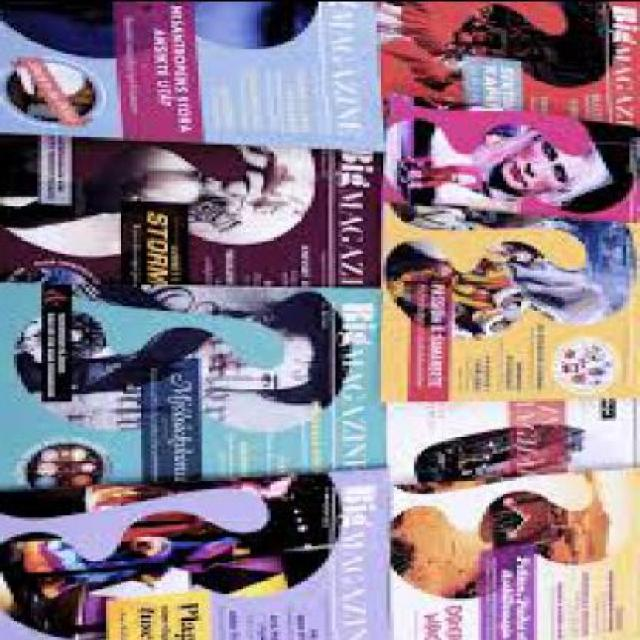PAPER: (1, 1, 638, 638), (4, 283, 387, 488), (3, 460, 394, 638), (3, 132, 383, 286), (3, 2, 392, 146), (390, 217, 638, 400), (390, 458, 638, 638), (383, 109, 639, 222), (390, 2, 638, 112), (390, 392, 638, 482)
